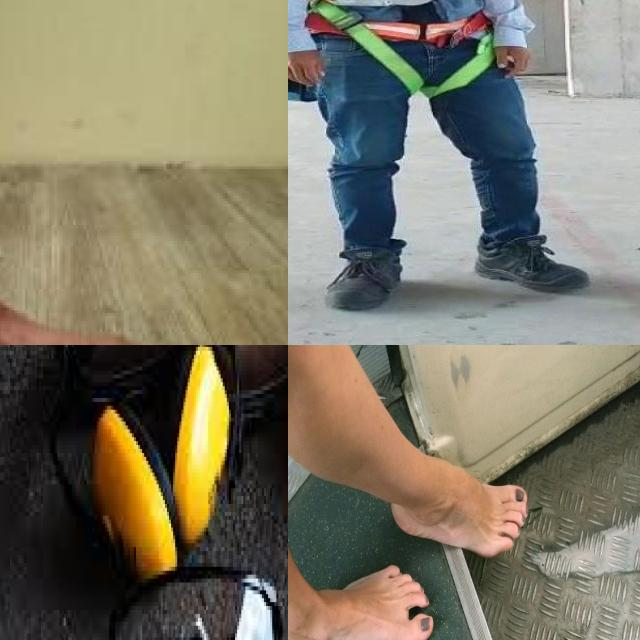Barefoots: (391, 465, 529, 557), (288, 565, 434, 640)
Ear-protection: (80, 394, 180, 583), (158, 345, 245, 539)
glasses: (107, 562, 284, 640)
hand_noglove: (490, 22, 540, 82), (288, 33, 332, 94)
person: (288, 0, 591, 309)
